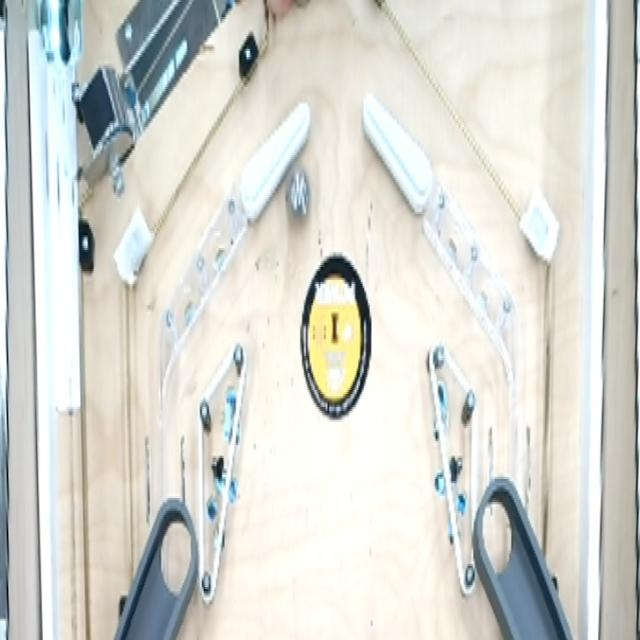ball: (282, 165, 316, 235)
flipper-left: (359, 82, 436, 225)
flipper-right: (237, 86, 311, 233)
